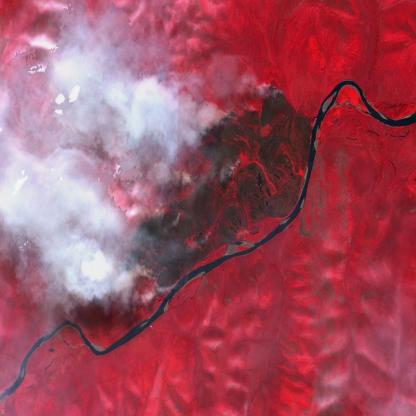fire: (131, 258, 173, 302), (182, 164, 210, 187), (172, 202, 188, 236), (267, 75, 287, 102), (228, 154, 245, 174)
